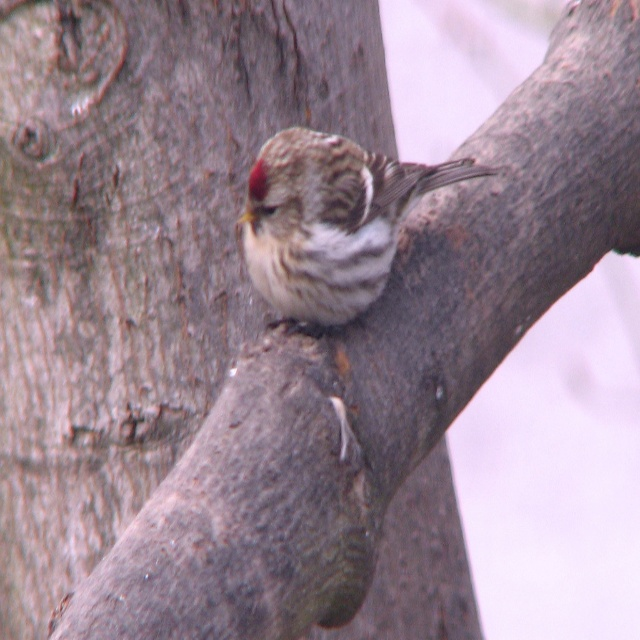Sparrow: (238, 123, 496, 330)
